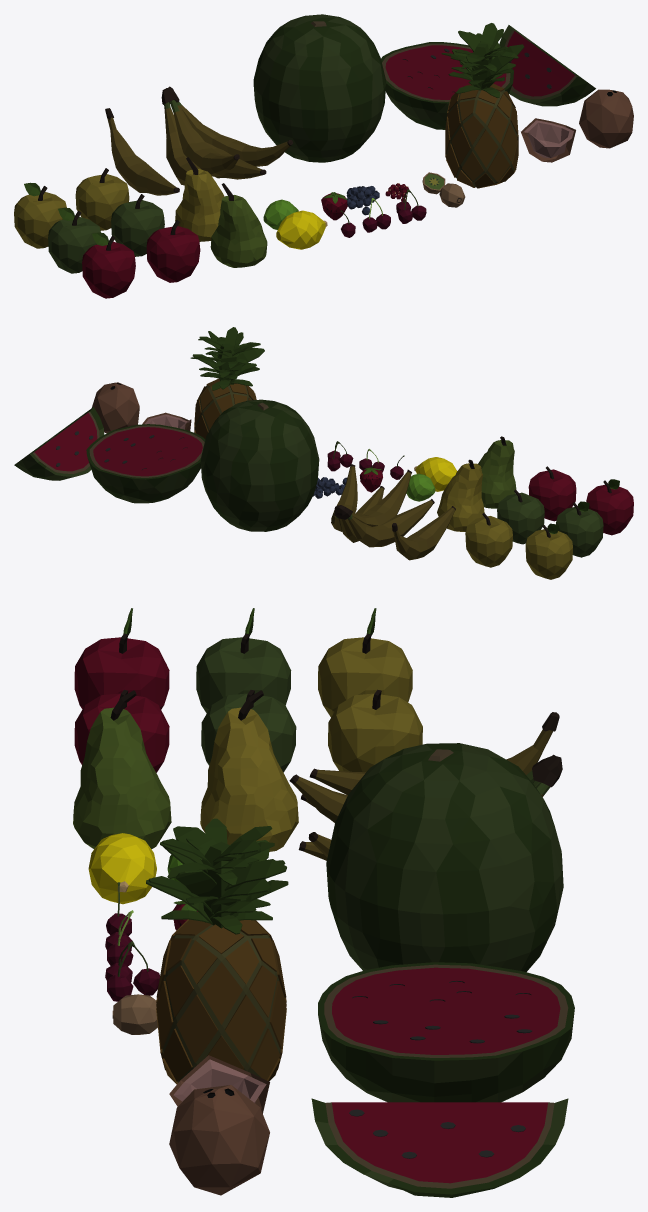
File: fruitsfay7in.fbx
3 renders of one model, top to bottom at view 1: azimuth 30°, elevation 25°; view 2: azimuth 150°, elevation 25°; view 3: azimuth 270°, elevation 25°, orthographic. The views are drawn at different scales.
Visible parts, largest first — view 1: watermelon, Cube.004, watermelon_half, Cube, watermelon_slice, pear, apple.003, Sphere.002, Cube.001, apple, apple.004, apple.005 (+11 smaller); view 2: watermelon, watermelon_half, Cube.004, Cube, watermelon_slice, Cube.001, apple.005, apple.002, pear, Sphere.002, apple.003, apple.004 (+9 smaller); view 3: watermelon, watermelon_half, Cube.004, watermelon_slice, pear, Cube.001, Sphere.002, apple.002, apple.005, apple.004, apple.003, lemon (+8 smaller).
Boxes of the visible parts, box(x1,y1,x2,y2) form: watermelon: box(253, 14, 385, 162); Cube.004: box(441, 23, 524, 188); watermelon_half: box(381, 42, 513, 129); Cube: box(161, 86, 292, 185); watermelon_slice: box(499, 25, 595, 106); pear: box(210, 183, 267, 267); apple.003: box(82, 232, 135, 298); Sphere.002: box(579, 89, 633, 148); Cube.001: box(175, 157, 224, 241); apple: box(146, 220, 200, 282); apple.004: box(48, 207, 100, 273); apple.005: box(14, 182, 66, 248); watermelon: box(200, 399, 319, 531); watermelon_half: box(86, 424, 205, 503); Cube.004: box(190, 327, 264, 439); Cube: box(331, 464, 434, 547); watermelon_slice: box(14, 407, 104, 480); Cube.001: box(437, 459, 484, 531); apple.005: box(525, 523, 572, 579); apple.002: box(465, 513, 512, 567); pear: box(478, 436, 516, 508); Sphere.002: box(92, 382, 139, 433); apple.003: box(586, 479, 633, 535); apple.004: box(556, 501, 603, 557); watermelon: box(326, 743, 563, 972); watermelon_half: box(318, 962, 574, 1102); Cube.004: box(146, 818, 288, 1084); watermelon_slice: box(311, 1098, 568, 1197); pear: box(73, 690, 171, 849); Cube.001: box(200, 690, 298, 851); Sphere.002: box(169, 1085, 269, 1195); apple.002: box(328, 689, 422, 772); apple.005: box(318, 608, 412, 717); apple.004: box(196, 608, 291, 713); apple.003: box(74, 608, 169, 709); lemon: box(88, 833, 156, 904).
Bounding box in the file's own units: 1937 × 463 × 806.
